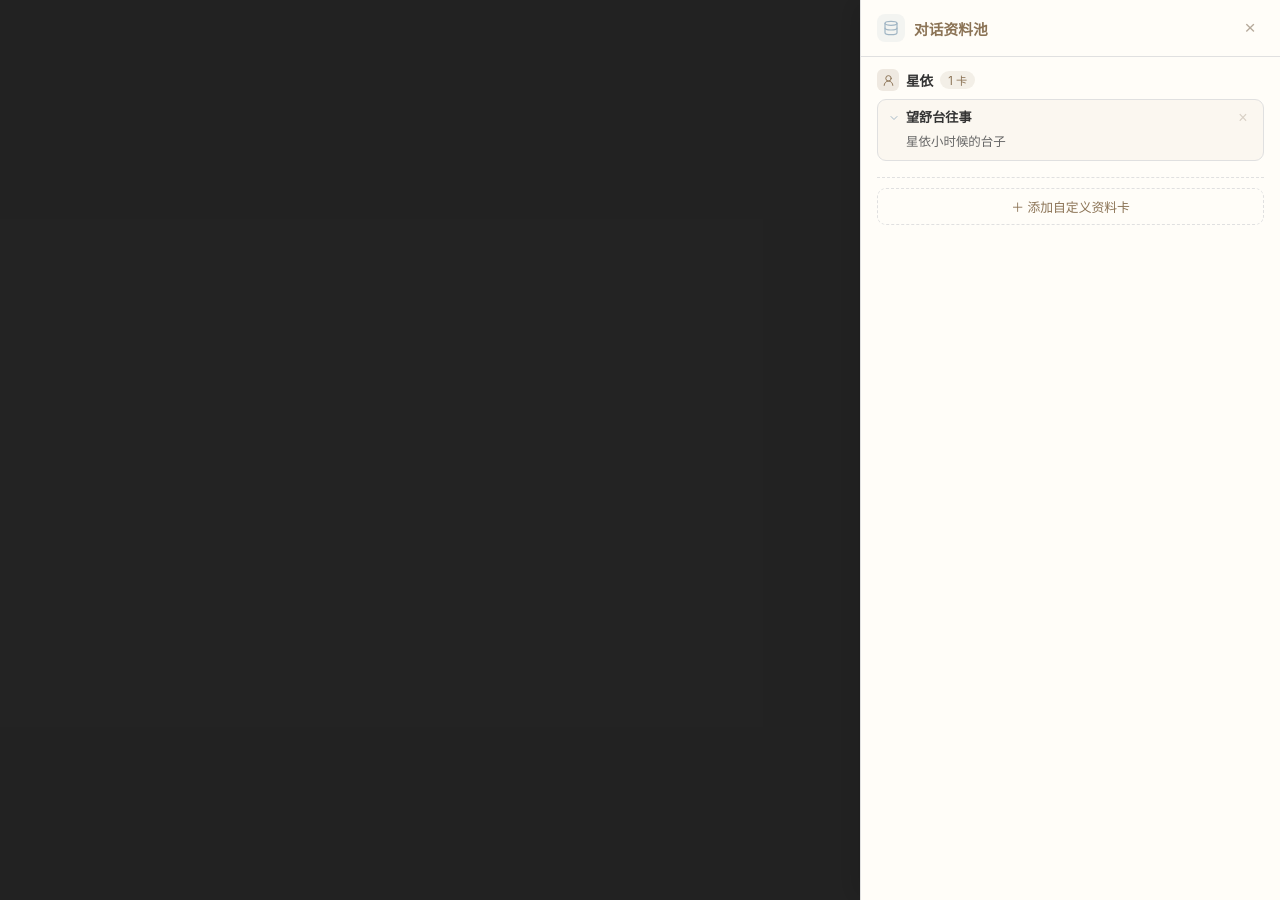
Test: RoundRecallPoolPanel（批次4·C 本轮资料池侧栏） › 有格式卡：折叠显标题+摘要、不显正文；展开显正文
Expected: the text with class "rrp-card-title" reads "望舒台往事", [906, 110, 972, 125]
Expected: the text with class "rrp-card-summary" reads "星依小时候的台子", [906, 134, 1006, 149]
// 展开 → 正文出现、折叠摘要让位
Click the button with class "rrp-card-head". click: click(939, 118)
box: [888, 108, 1227, 127]
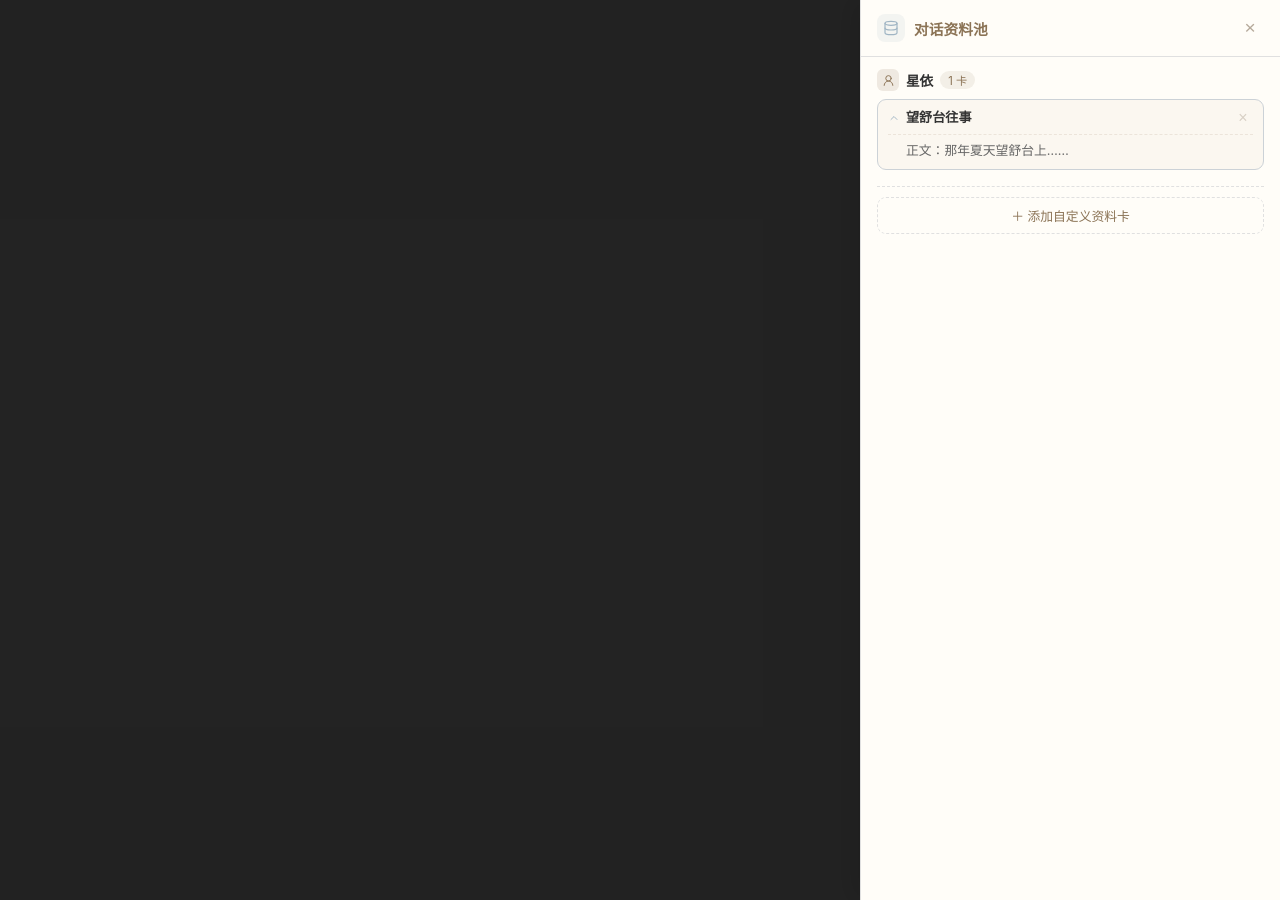
Expected: the text with class "rrp-card-body" shows "那年夏天望舒台上", [906, 143, 1069, 158]
